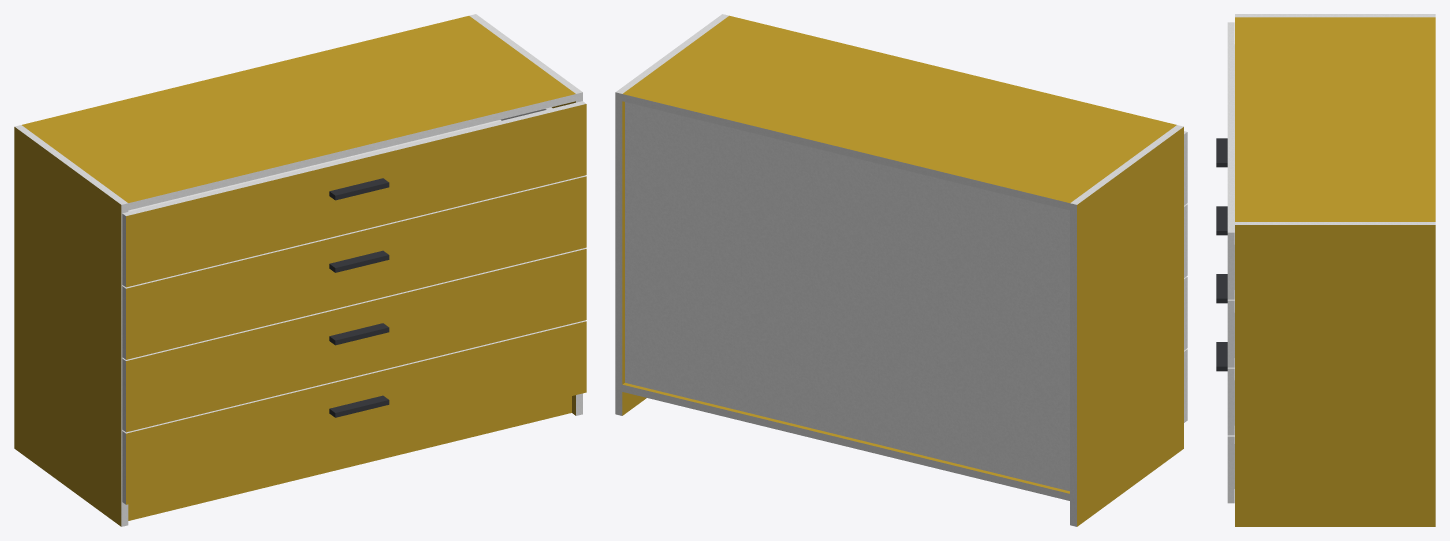
File: FET-DRS-std.glb
The picture shows the model from 3 angles, left to right: view 1: azimuth 30°, elevation 25°; view 2: azimuth 150°, elevation 25°; view 3: azimuth 270°, elevation 25°; orthographic projection. The views are drawn at different scales.
Visible parts, largest first — view 1: top:pbr, side-l:pbr, d1-front:pbr, d2-front:pbr, d3-front:pbr, d4-front:pbr, plinth:pbr, top:sheet:eyJtIjoibWRmIiwic2lkZSI6ImVkZ2UtbG9uZyIsInNlZWQiOj, pull, d4-front:sheet:eyJtIjoibWRmIiwic2lkZSI6ImVkZ2UtbG9uZyIsInNlZ, d1-front:sheet:eyJtIjoibWRmIiwic2lkZSI6ImVkZ2UtbG9uZyIsInNlZ, d2-front:sheet:eyJtIjoibWRmIiwic2lkZSI6ImVkZ2UtbG9uZyIsInNlZ (+5 smaller); view 2: back:sheet:eyJtIjoibWRmIiwic2lkZSI6ImZhY2UiLCJzZWVkIjo0LCJ0a, top:pbr, side-l:pbr, top:sheet:eyJtIjoibWRmIiwic2lkZSI6ImVkZ2UtbG9uZyIsInNlZWQiOj, bottom:sheet:eyJtIjoibWRmIiwic2lkZSI6ImVkZ2UtbG9uZyIsInNlZWQ, side-r:sheet:eyJtIjoibWRmIiwic2lkZSI6ImVkZ2UtbG9uZyIsInNlZWQ, side-l:sheet:eyJtIjoibWRmIiwic2lkZSI6ImVkZ2UtbG9uZyIsInNlZWQ, bottom:pbr, side-r:pbr, side-r:sheet:eyJtIjoibWRmIiwic2lkZSI6ImVkZ2UtZW5kIiwic2VlZCI, side-l:sheet:eyJtIjoibWRmIiwic2lkZSI6ImVkZ2UtZW5kIiwic2VlZCI; view 3: side-r:pbr, top:pbr, d4-front:sheet:eyJtIjoibWRmIiwic2lkZSI6ImVkZ2UtbG9uZyIsInNlZ, pull, side-l:sheet:eyJtIjoibWRmIiwic2lkZSI6ImVkZ2UtZW5kIiwic2VlZCI, side-r:sheet:eyJtIjoibWRmIiwic2lkZSI6ImVkZ2UtZW5kIiwic2VlZCI, d3-front:sheet:eyJtIjoibWRmIiwic2lkZSI6ImVkZ2UtZW5kIiwic2VlZ, d4-front:sheet:eyJtIjoibWRmIiwic2lkZSI6ImVkZ2UtZW5kIiwic2VlZ, d1-front:sheet:eyJtIjoibWRmIiwic2lkZSI6ImVkZ2UtZW5kIiwic2VlZ, d2-front:sheet:eyJtIjoibWRmIiwic2lkZSI6ImVkZ2UtZW5kIiwic2VlZ.
Part boxes in pixels (<box>): top:pbr: <box>22,16,575,202</box>; side-l:pbr: <box>14,127,121,526</box>; d1-front:pbr: <box>126,321,586,504</box>; d2-front:pbr: <box>126,249,586,432</box>; d3-front:pbr: <box>126,176,586,359</box>; d4-front:pbr: <box>126,104,586,287</box>; plinth:pbr: <box>128,396,571,520</box>; top:sheet:eyJtIjoibWRmIiwic2lkZSI6ImVkZ2UtbG9uZyIsInNlZWQiOj: <box>128,94,575,210</box>; pull: <box>329,178,389,417</box>; d4-front:sheet:eyJtIjoibWRmIiwic2lkZSI6ImVkZ2UtbG9uZyIsInNlZ: <box>122,101,585,215</box>; d1-front:sheet:eyJtIjoibWRmIiwic2lkZSI6ImVkZ2UtbG9uZyIsInNlZ: <box>122,320,585,433</box>; d2-front:sheet:eyJtIjoibWRmIiwic2lkZSI6ImVkZ2UtbG9uZyIsInNlZ: <box>122,248,585,360</box>; back:sheet:eyJtIjoibWRmIiwic2lkZSI6ImZhY2UiLCJzZWVkIjo0LCJ0a: <box>625,102,1069,491</box>; top:pbr: <box>623,15,1176,202</box>; side-l:pbr: <box>1077,127,1183,526</box>; top:sheet:eyJtIjoibWRmIiwic2lkZSI6ImVkZ2UtbG9uZyIsInNlZWQiOj: <box>622,94,1069,210</box>; bottom:sheet:eyJtIjoibWRmIiwic2lkZSI6ImVkZ2UtbG9uZyIsInNlZWQ: <box>622,384,1069,500</box>; side-r:sheet:eyJtIjoibWRmIiwic2lkZSI6ImVkZ2UtbG9uZyIsInNlZWQ: <box>615,92,622,415</box>; side-l:sheet:eyJtIjoibWRmIiwic2lkZSI6ImVkZ2UtbG9uZyIsInNlZWQ: <box>1070,203,1076,526</box>; bottom:pbr: <box>623,383,1069,493</box>; side-r:pbr: <box>622,101,646,415</box>; side-r:sheet:eyJtIjoibWRmIiwic2lkZSI6ImVkZ2UtZW5kIiwic2VlZCI: <box>616,14,728,93</box>; side-l:sheet:eyJtIjoibWRmIiwic2lkZSI6ImVkZ2UtZW5kIiwic2VlZCI: <box>1070,125,1183,204</box>; side-r:pbr: <box>1235,225,1435,526</box>; top:pbr: <box>1235,17,1435,221</box>; d4-front:sheet:eyJtIjoibWRmIiwic2lkZSI6ImVkZ2UtbG9uZyIsInNlZ: <box>1227,22,1234,232</box>; pull: <box>1216,138,1227,371</box>; side-l:sheet:eyJtIjoibWRmIiwic2lkZSI6ImVkZ2UtZW5kIiwic2VlZCI: <box>1235,14,1435,17</box>; side-r:sheet:eyJtIjoibWRmIiwic2lkZSI6ImVkZ2UtZW5kIiwic2VlZCI: <box>1235,222,1435,224</box>; d3-front:sheet:eyJtIjoibWRmIiwic2lkZSI6ImVkZ2UtZW5kIiwic2VlZ: <box>1227,300,1234,367</box>; d4-front:sheet:eyJtIjoibWRmIiwic2lkZSI6ImVkZ2UtZW5kIiwic2VlZ: <box>1227,232,1234,299</box>; d1-front:sheet:eyJtIjoibWRmIiwic2lkZSI6ImVkZ2UtZW5kIiwic2VlZ: <box>1227,436,1234,503</box>; d2-front:sheet:eyJtIjoibWRmIiwic2lkZSI6ImVkZ2UtZW5kIiwic2VlZ: <box>1227,368,1234,435</box>.
Bounding box in the file's own units: 1.2 × 0.8 × 0.527.
Materials: 91 (81 with a texture image).
